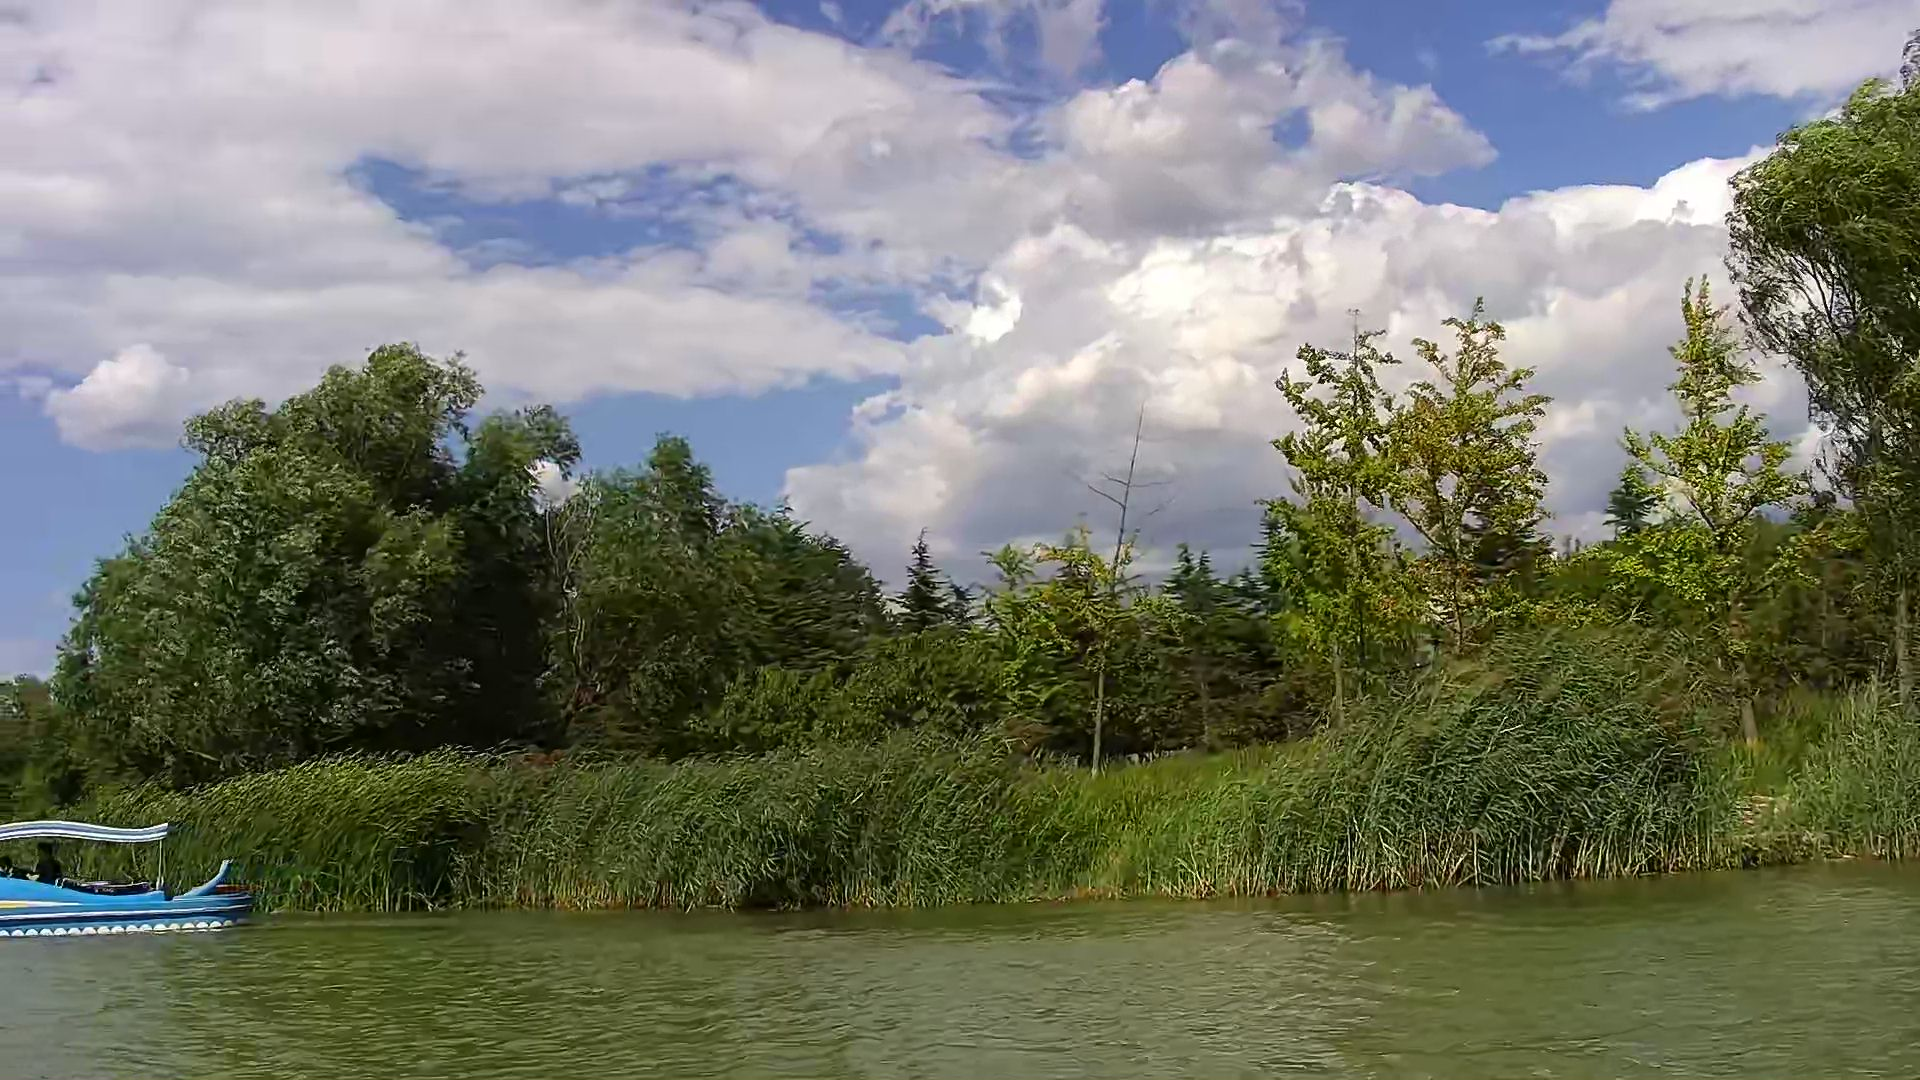boat: (1, 825, 252, 942)
